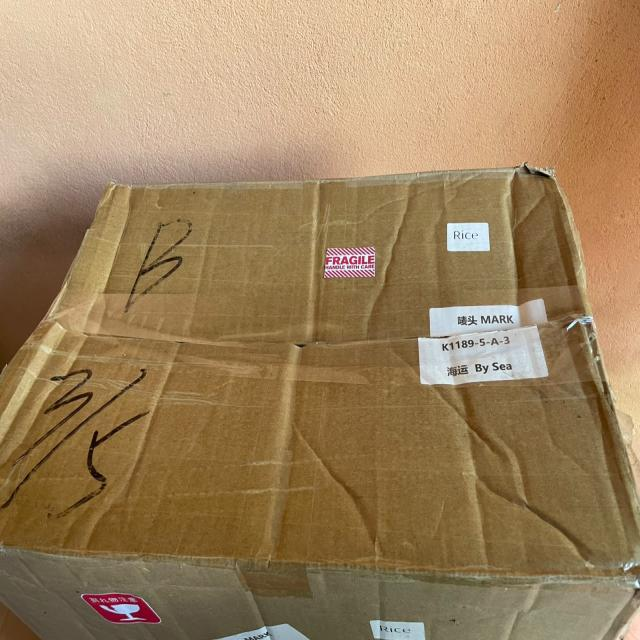carton_box: (0, 155, 640, 640)
export_mark_label: (414, 316, 552, 395)
fragile_label: (315, 232, 392, 298)
package_damage: (551, 264, 623, 406), (230, 318, 390, 364), (508, 162, 569, 192)
